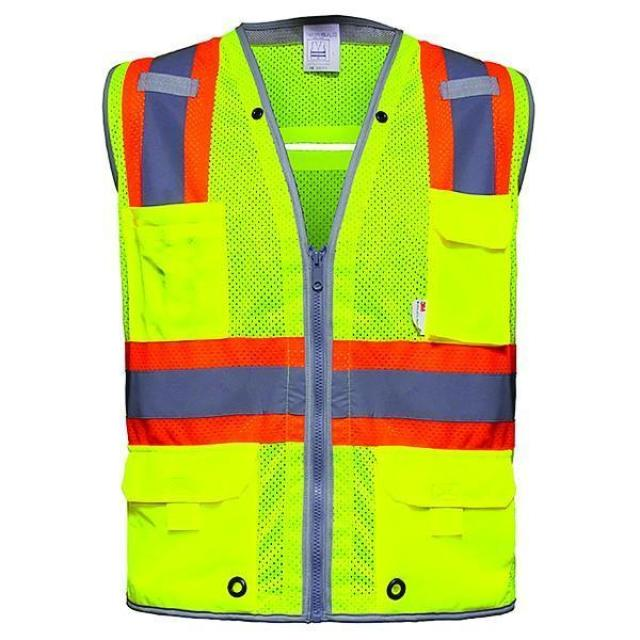Vest: (102, 20, 536, 620)
